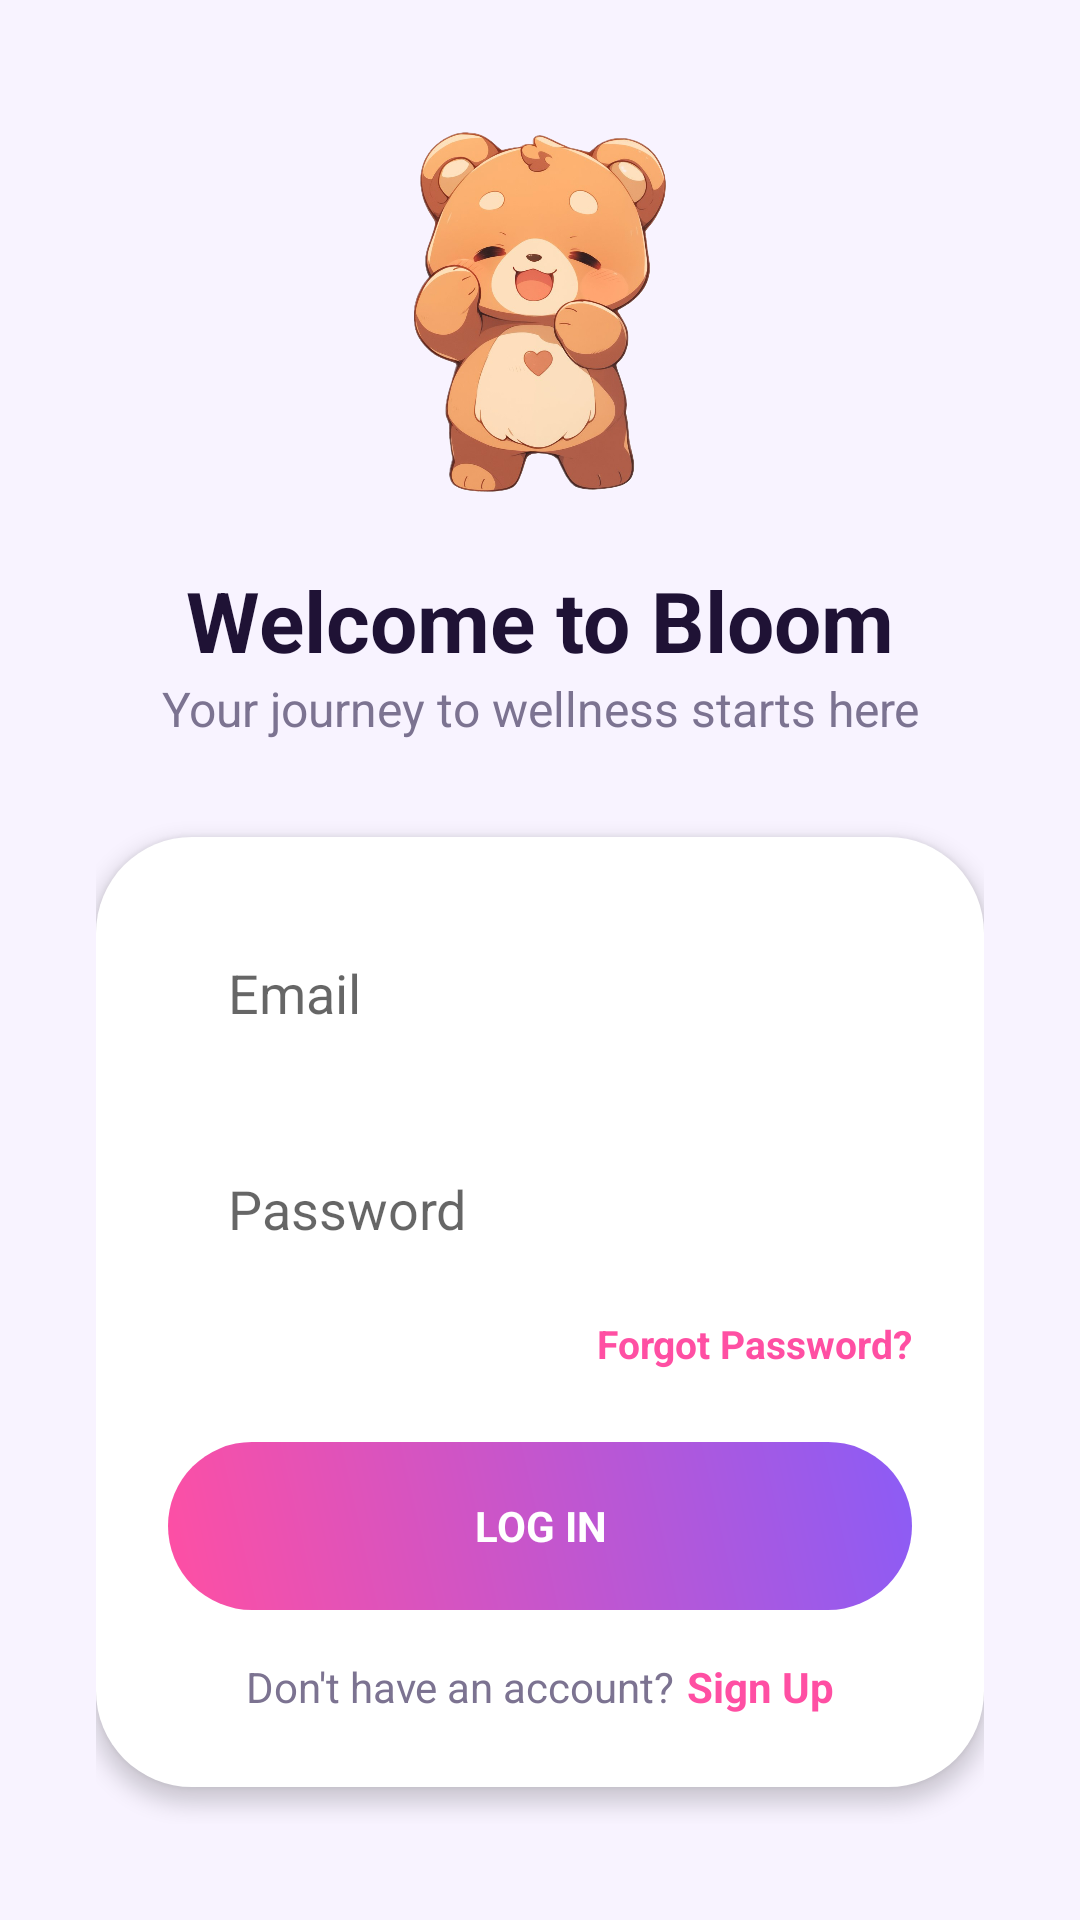

Point at icon controls on the screen. Image size 1080px x 1920px, points as [x,y].
Bibo, the brown bear: [540,312]
